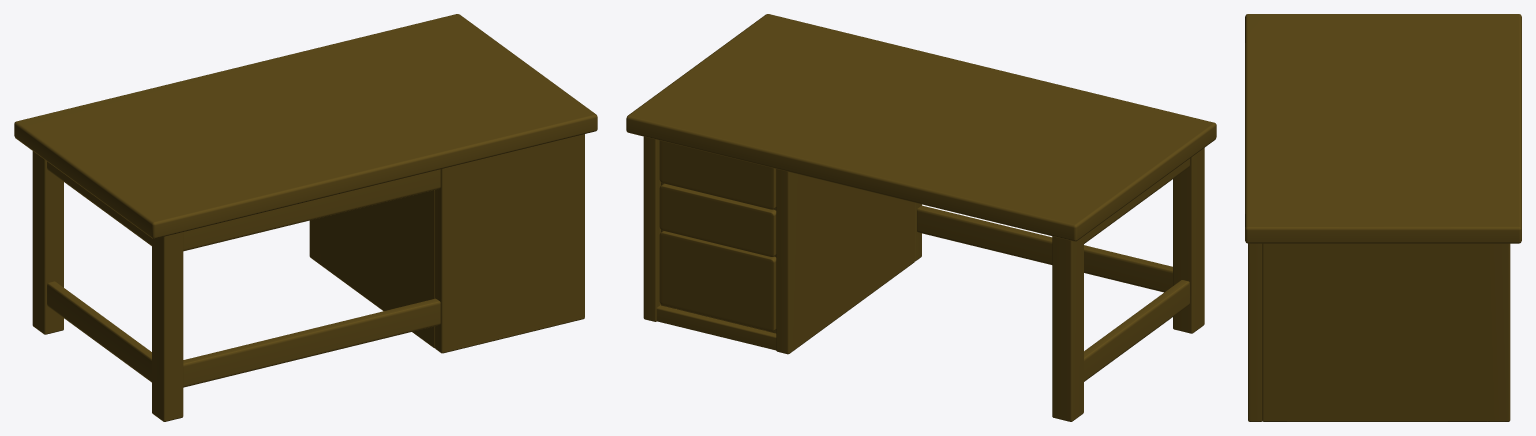
The model's file is desk.fbx.
3 renders of one model, left to right at view 1: azimuth 30°, elevation 25°; view 2: azimuth 150°, elevation 25°; view 3: azimuth 270°, elevation 25°, orthographic. The views are drawn at different scales.
Visible parts, largest first — view 1: desk; view 2: desk; view 3: desk.
Boxes of the visible parts, x1,y1,x2,y2 form: desk: [14, 14, 597, 421]; desk: [626, 14, 1216, 421]; desk: [1245, 14, 1521, 421].
Bounding box in the file's own units: 1548 × 673 × 842.
